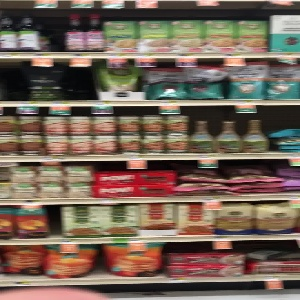void: (64, 60, 98, 100), (1, 60, 31, 101)
